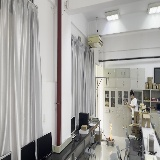fire: (107, 121, 113, 140)
